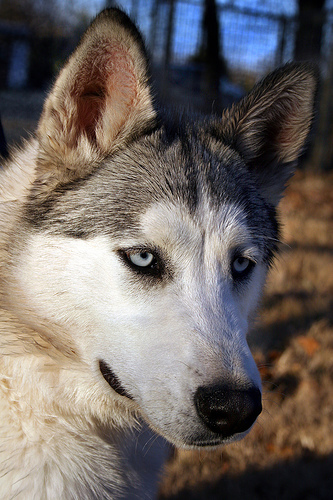dog: (0, 0, 316, 498)
